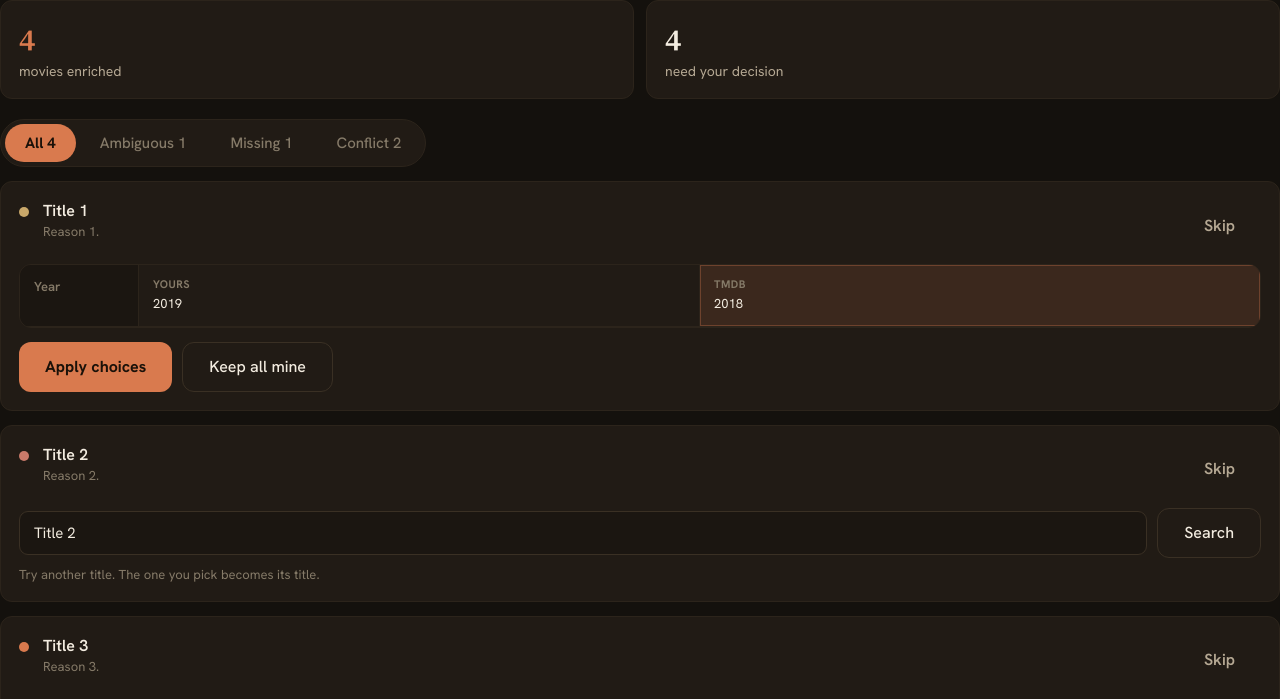
Test case: EnrichmentReview — the Kind filter › shows everything again once All is pressed
The image size is (1280, 699).
Click the button "Missing 1" at (262, 143), box [210,124,313,162]
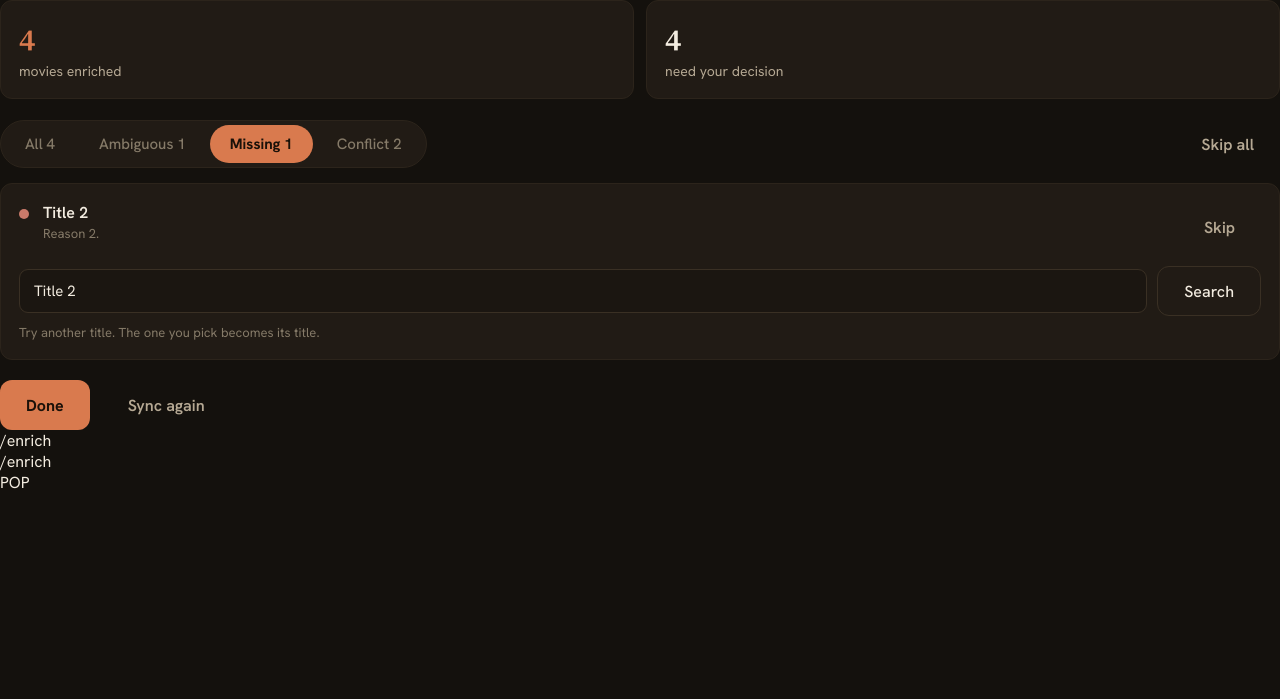
Click the button "All 4" at (40, 144), box [5,125,75,163]
(page scrolled)
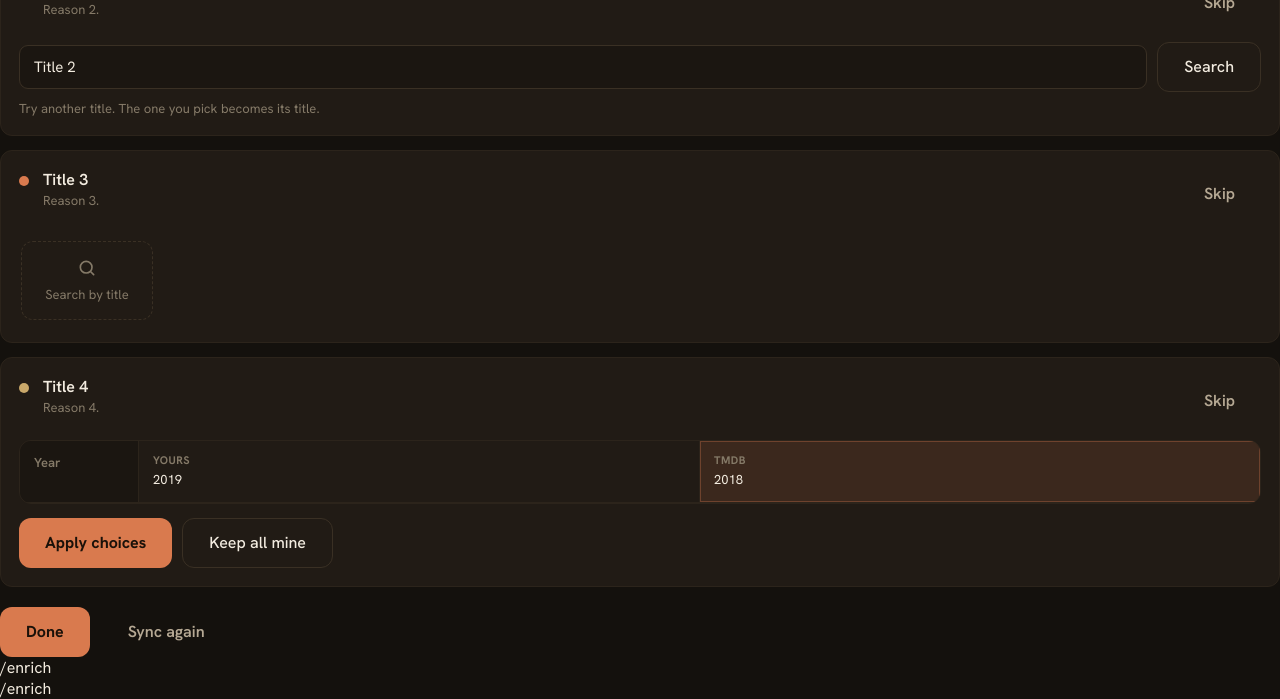
Check: the text "Reason 2." is shown, box [43,1,99,18]
Check: the text "Reason 3." is shown, box [43,192,99,209]
Check: the text "Reason 4." is shown, box [43,399,99,416]
